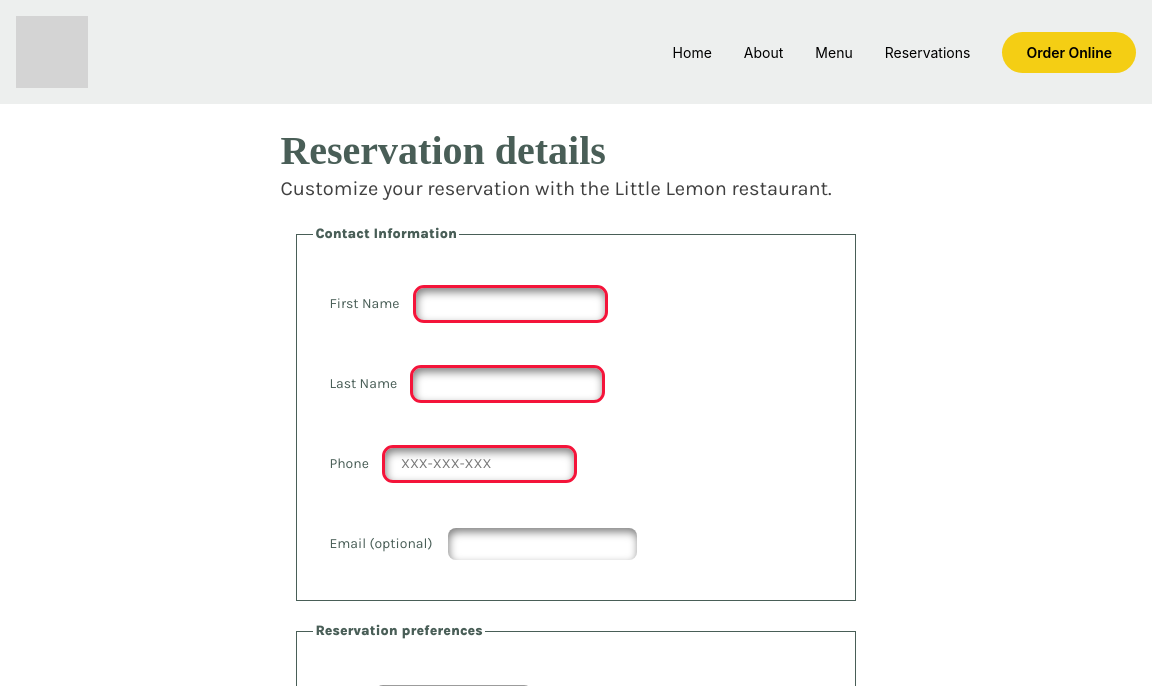
Test: form, validation, and confirmation integration › displays error message for invalid email
Click the link "Reservations". click: click(928, 52)
box: x1=885 y1=44 x2=970 y2=60
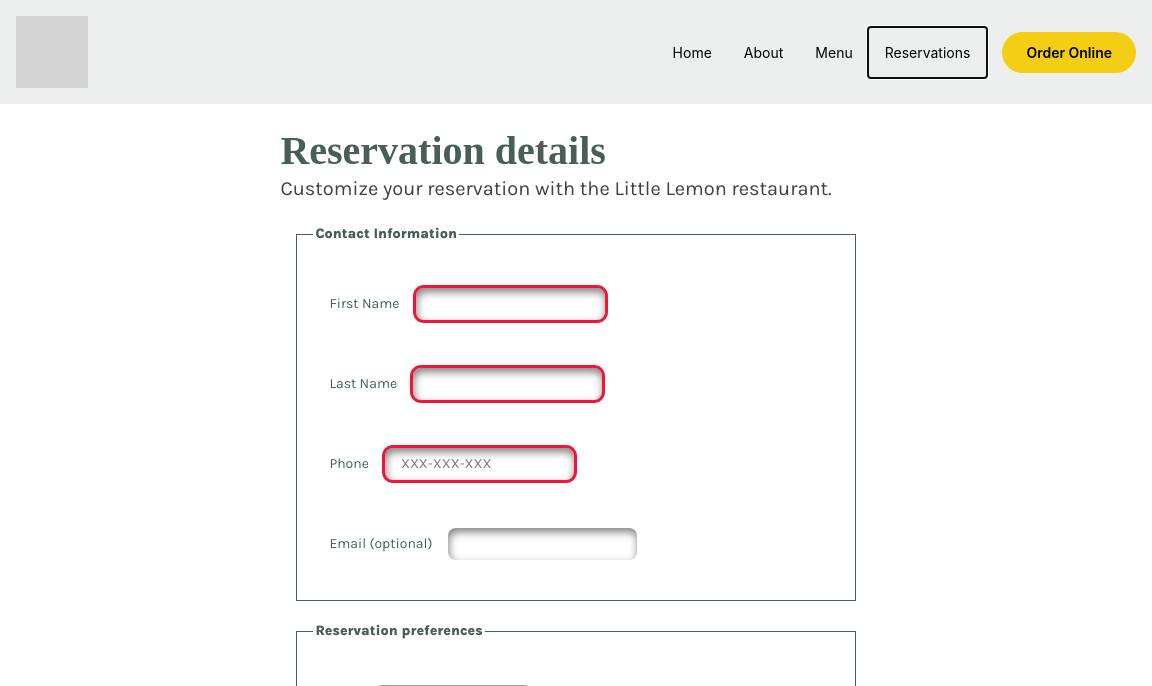
Type "not_an_email" into the field labelled "Email (optional)". click: (543, 544)
box: x1=448 y1=528 x2=638 y2=560
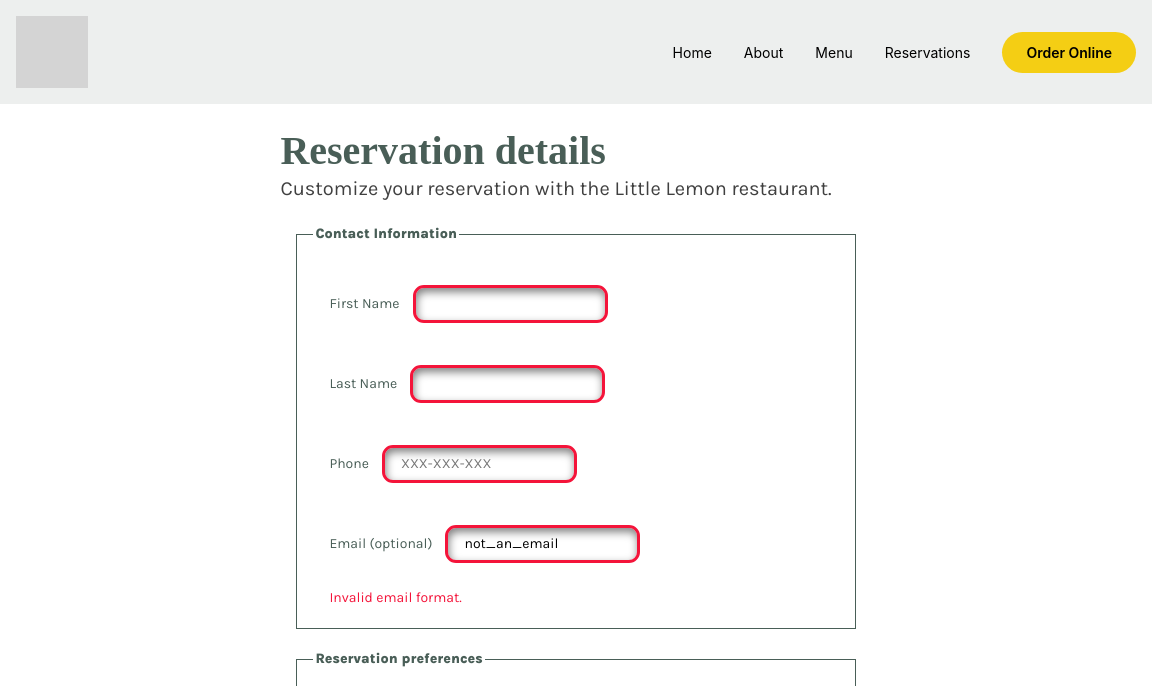
Expected: the text "Invalid email format." is shown, x1=329 y1=589 x2=462 y2=606
